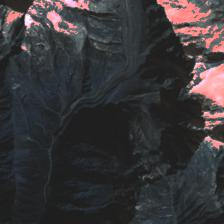landslides: (34, 122, 46, 134)
